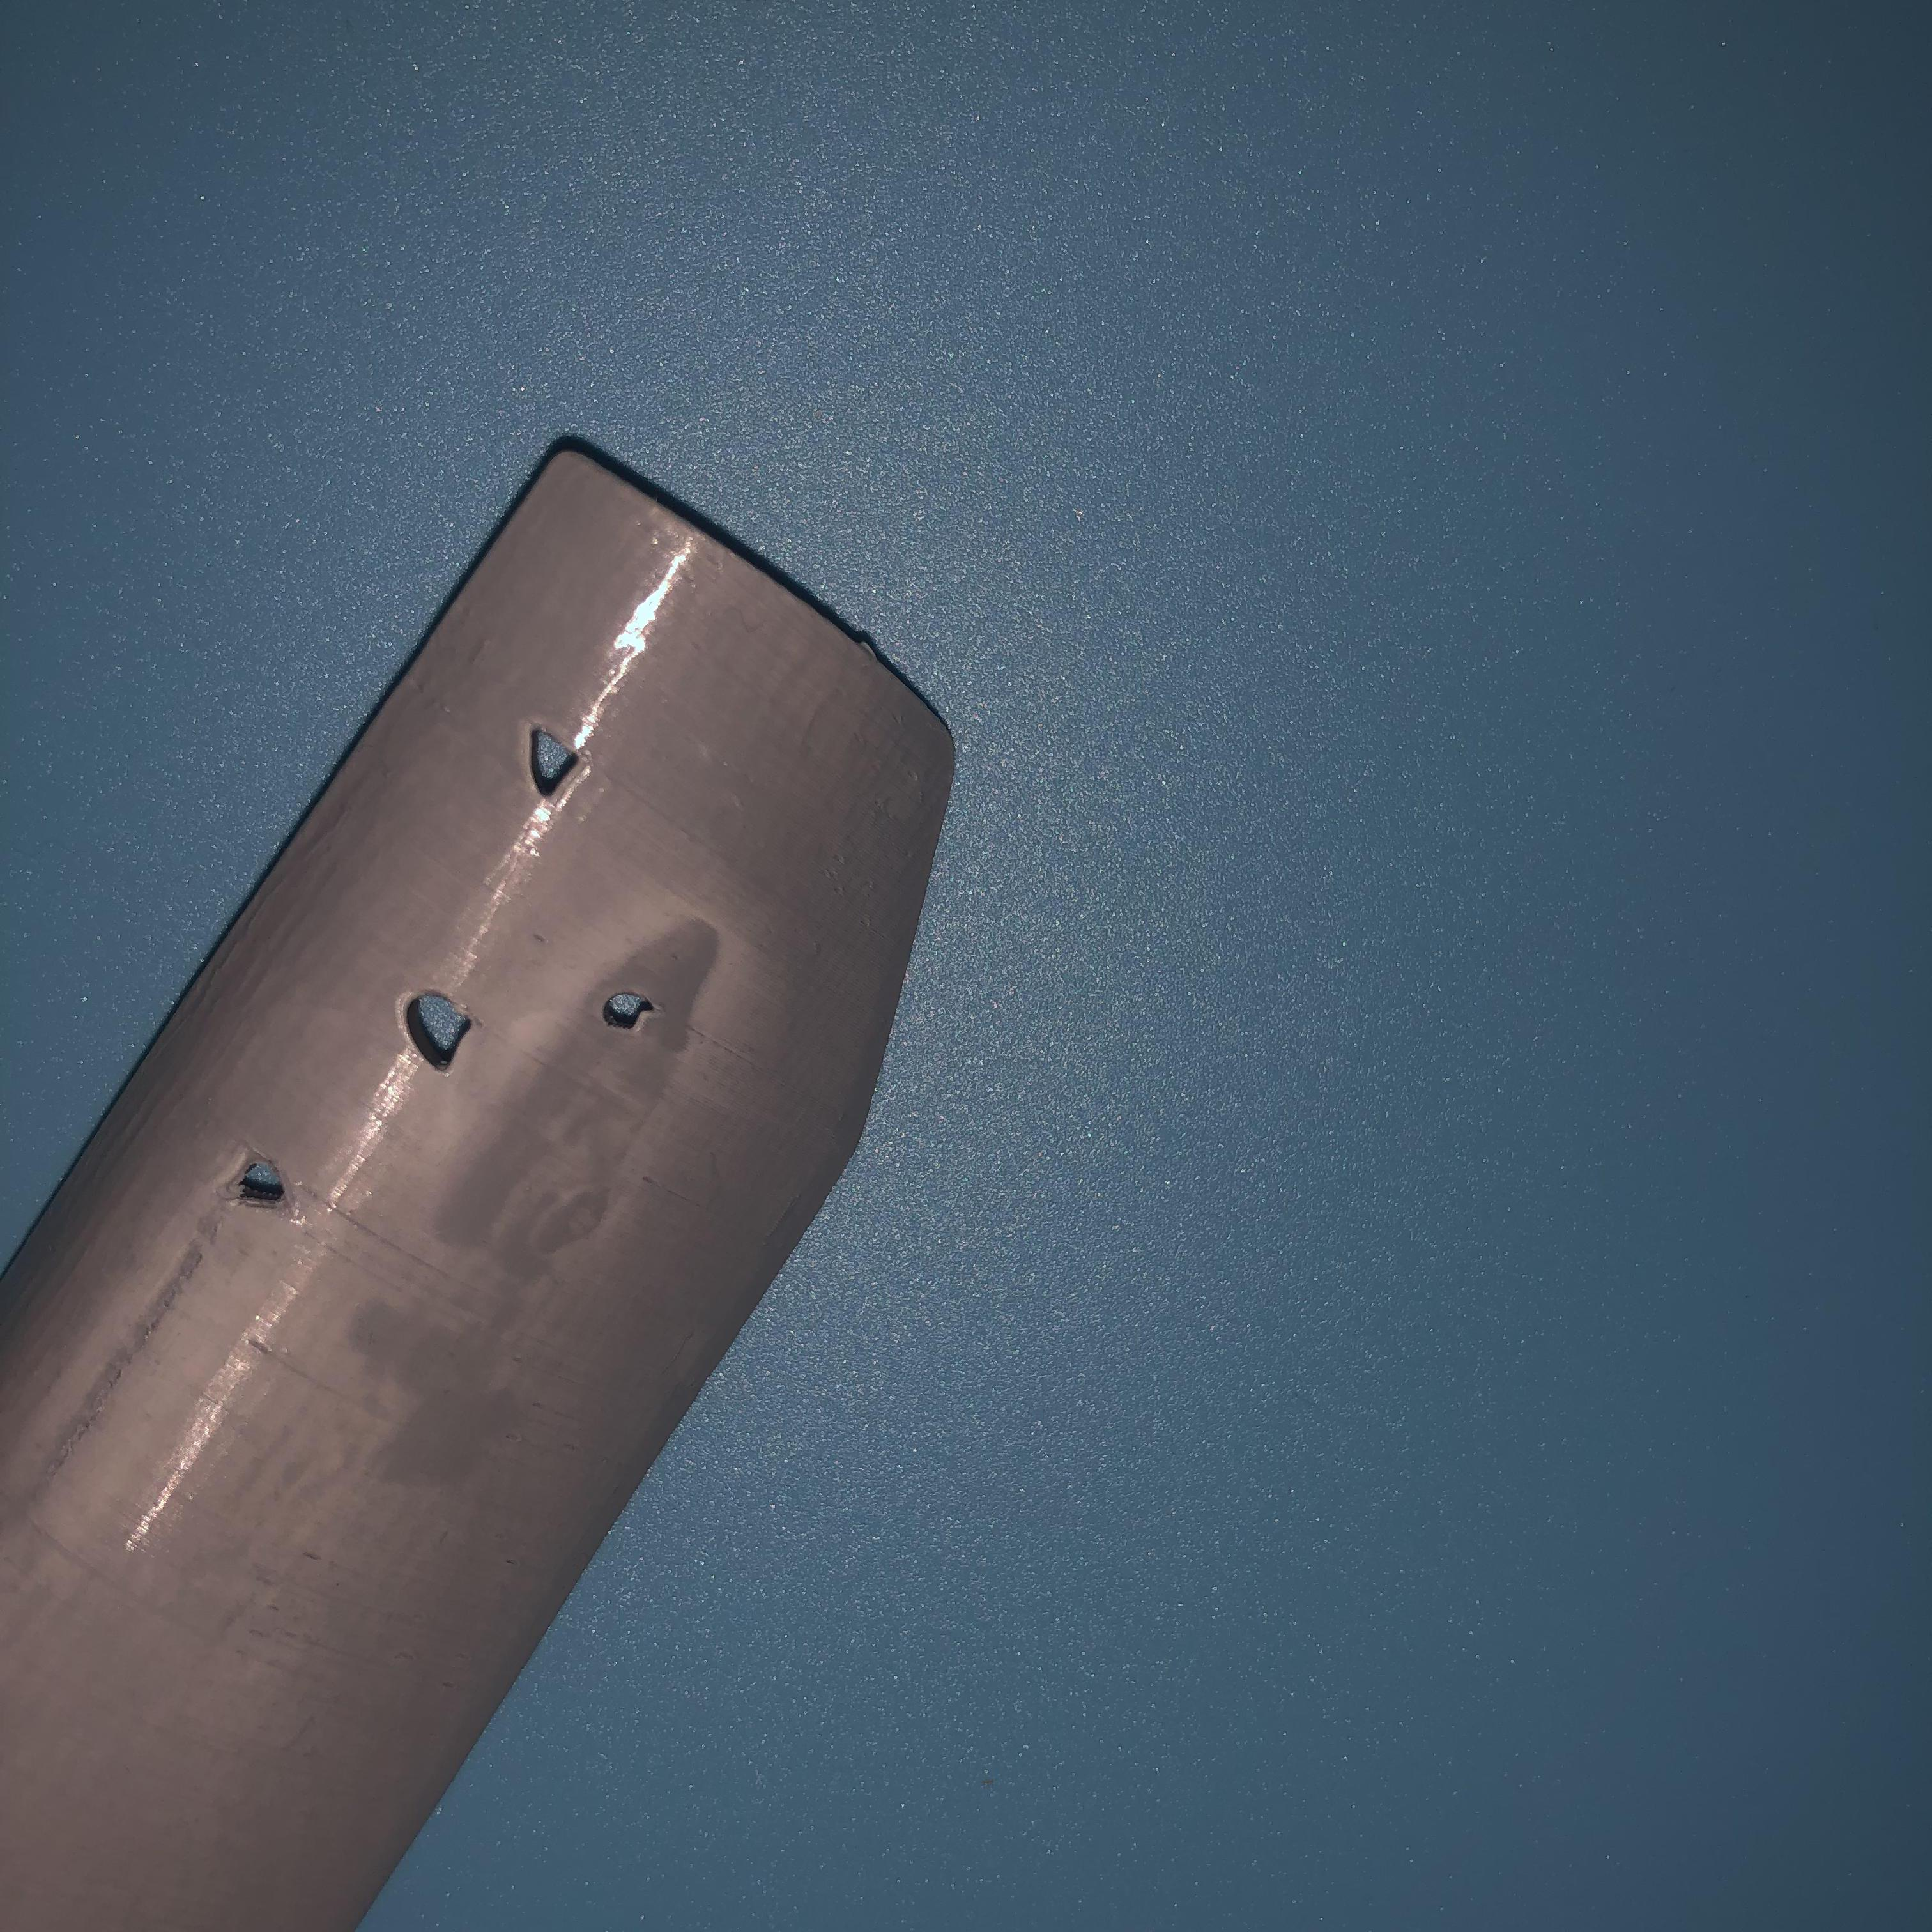breakdown: (515, 715, 598, 812), (395, 998, 485, 1079), (223, 1143, 315, 1207), (600, 980, 665, 1030)
